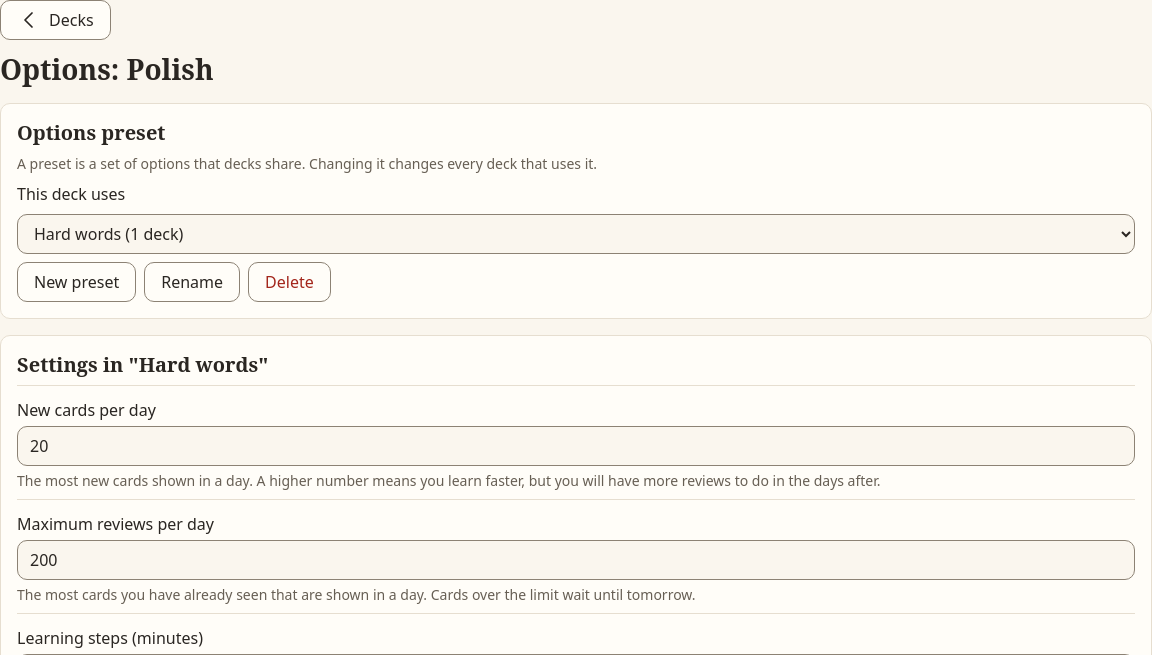
Deck options › the Default preset cannot be deleted; another asks first and says where decks go
Expected: the dropdown labelled "This deck uses" is shown, [17,214,1135,254]
Click the button "Delete": point(289, 282) [248,262,331,302]
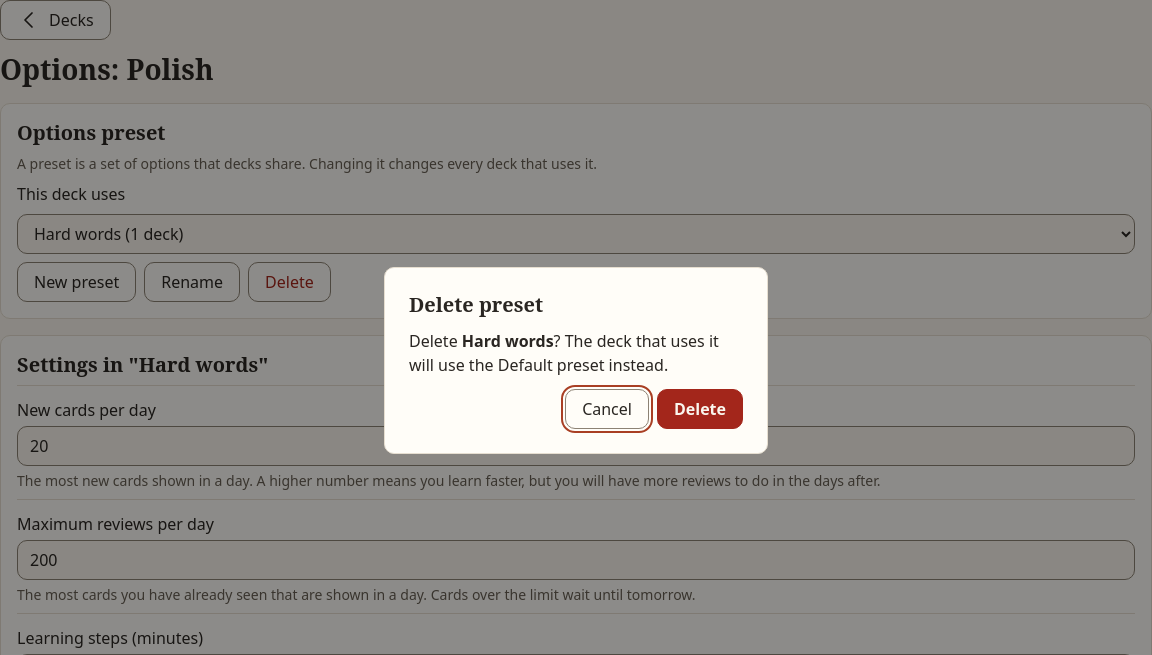
Expected: the dialog shows "The deck that uses it will use the Default preset instead.", [409,330,719,376]
Click the button "Delete": point(700, 408) [657,388,743,428]
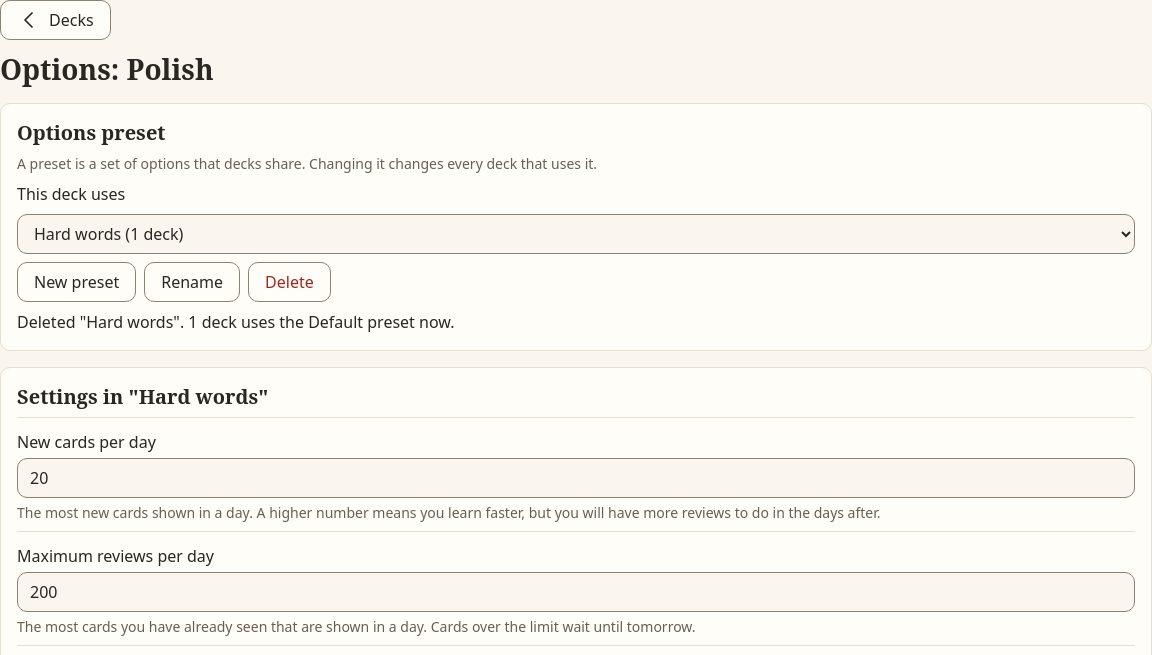
Expected: the text "Deleted \"Hard words\". 1 deck uses the Default preset now." is shown, [17,311,454,333]
